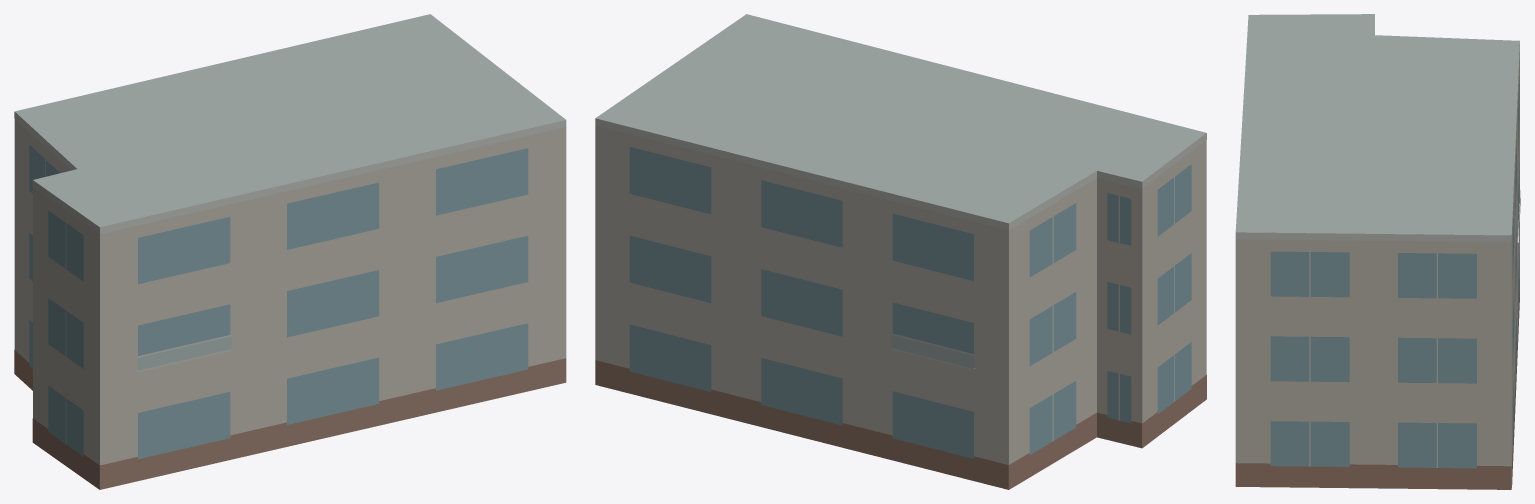
File: survey-upis-32661321.glb
3 renders of one model, left to right at view 1: azimuth 30°, elevation 25°; view 2: azimuth 150°, elevation 25°; view 3: azimuth 270°, elevation 25°, orthographic. The views are drawn at different scales.
Visible parts, largest first — view 1: survey-upis-32661321.tmp; view 2: survey-upis-32661321.tmp; view 3: survey-upis-32661321.tmp.
Part boxes in pixels (x1,y1,x2,y2): survey-upis-32661321.tmp: (14, 14, 566, 489); survey-upis-32661321.tmp: (595, 14, 1206, 489); survey-upis-32661321.tmp: (1235, 14, 1520, 489).
Size of the model in its own units: 17.09 by 9.15 by 9.29.
